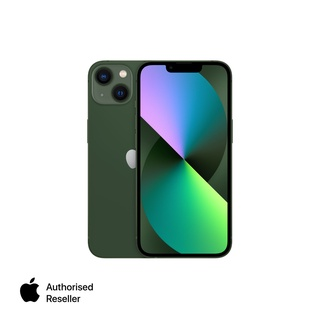phones: (138, 56, 237, 262), (84, 58, 142, 259)
